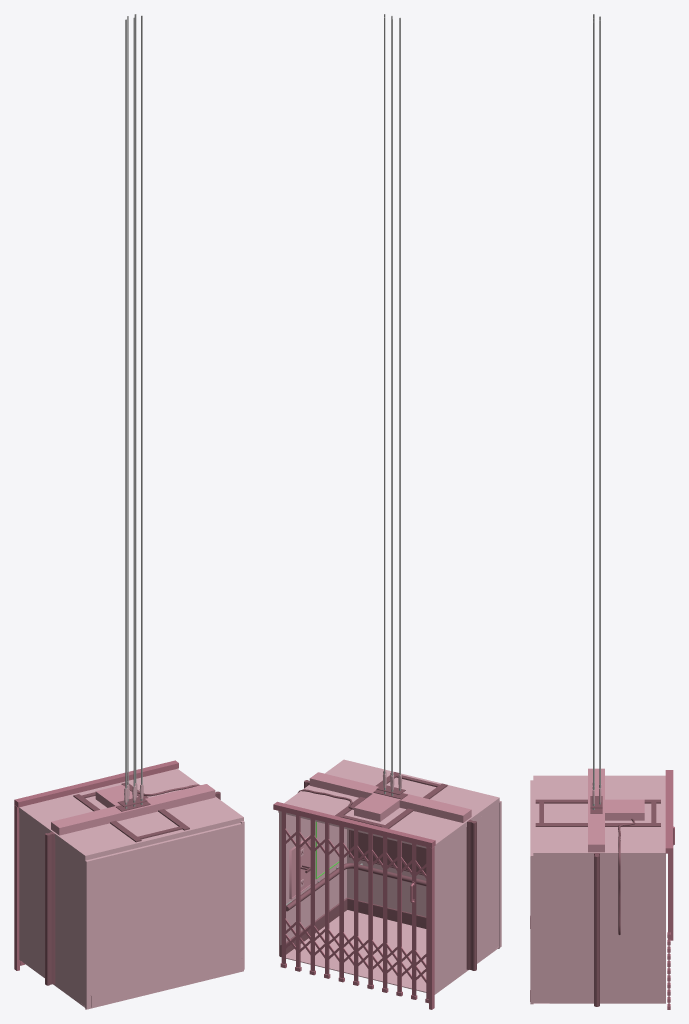
The model's file is Elevator_2.fbx.
3 renders of one model, left to right at view 1: azimuth 30°, elevation 25°; view 2: azimuth 150°, elevation 25°; view 3: azimuth 270°, elevation 25°, orthographic.
Visible parts, largest first — view 1: Elevator2; view 2: Elevator2; view 3: Elevator2.
Boxes of the visible parts, x1,y1,x2,y2 form: Elevator2: [14, 14, 244, 1009]; Elevator2: [273, 14, 501, 1009]; Elevator2: [530, 14, 674, 1009].
Bounding box in the file's own units: 325 × 1707 × 233.
